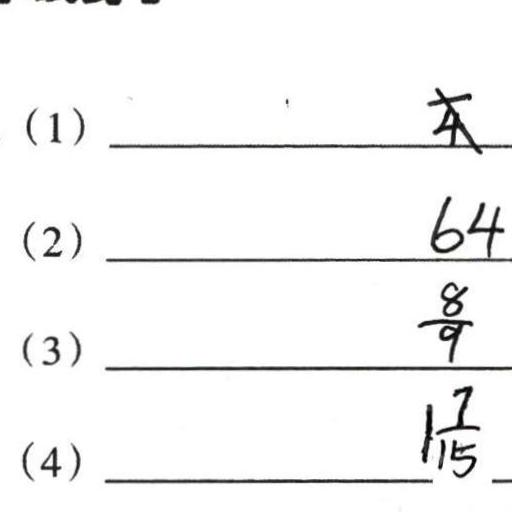ans: (413, 379, 482, 479), (424, 188, 504, 257), (413, 274, 473, 362)
